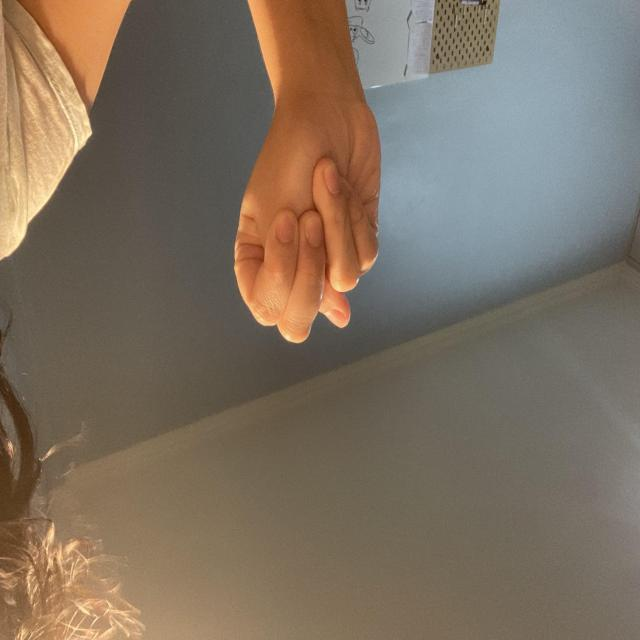N: (258, 296, 406, 546)
